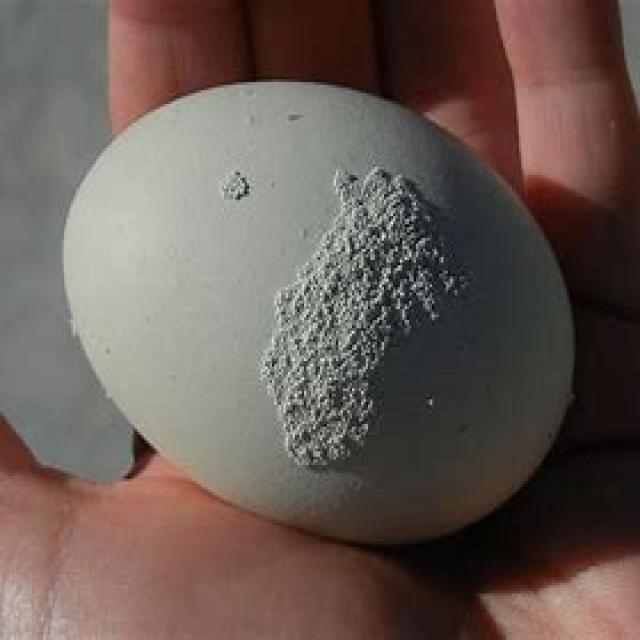Calcium Deposit Egg: (67, 85, 590, 578)
